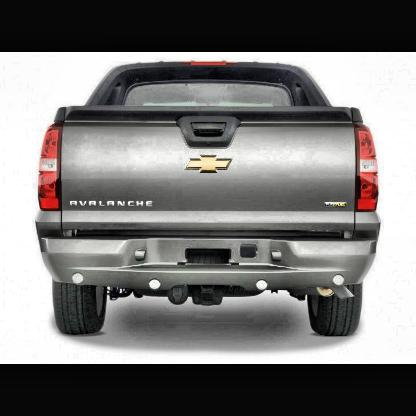Chevrolet Avalanche Crew Cab 2012: (37, 60, 382, 338)
